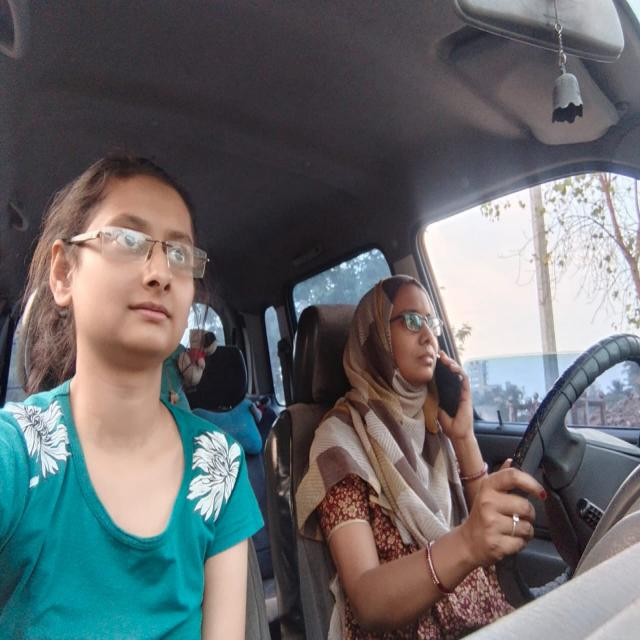mobile: (434, 360, 468, 427)
person: (44, 153, 211, 397), (342, 267, 442, 413)
